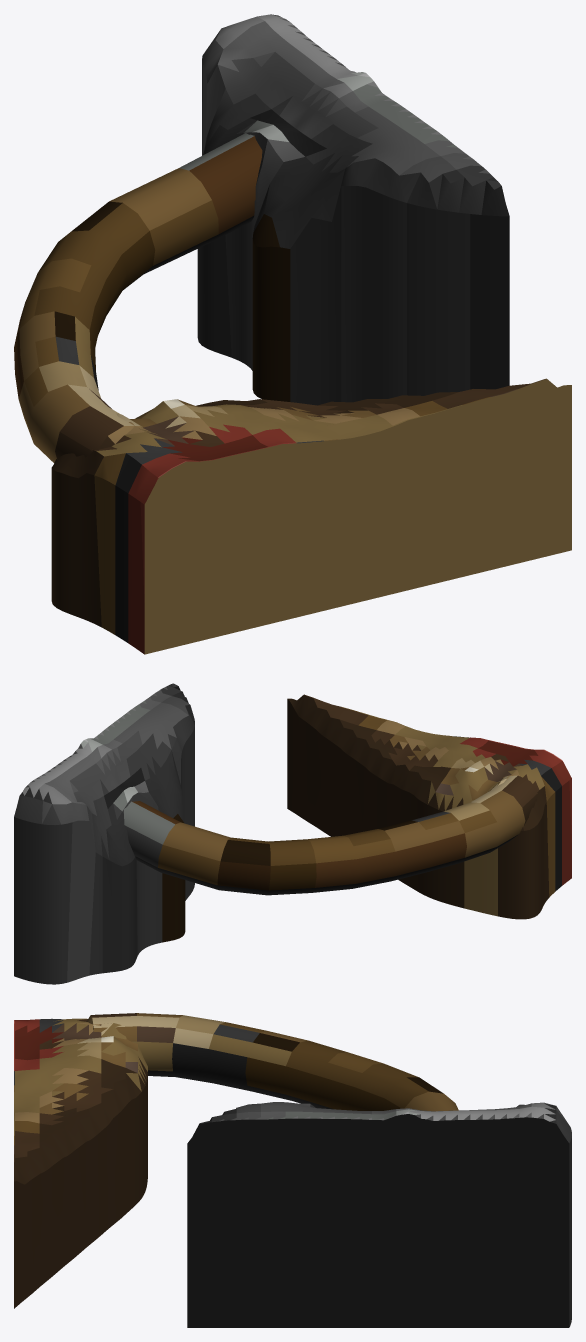
File: tusk_boss_10.glb
The picture shows the model from 3 angles, top to bottom: view 1: azimuth 30°, elevation 25°; view 2: azimuth 150°, elevation 25°; view 3: azimuth 270°, elevation 25°; orthographic projection. The views are drawn at different scales.
Parts seen in each view (by area): view 1: tusk_boss_10_plates; view 2: tusk_boss_10_plates; view 3: tusk_boss_10_plates.
Part boxes in pixels (x1=…): tusk_boss_10_plates: x1=14, y1=14, x2=571, y2=654; tusk_boss_10_plates: x1=14, y1=683, x2=571, y2=984; tusk_boss_10_plates: x1=14, y1=1013, x2=571, y2=1327.
Bounding box in the file's own units: 19.74 × 10.56 × 24.95.
